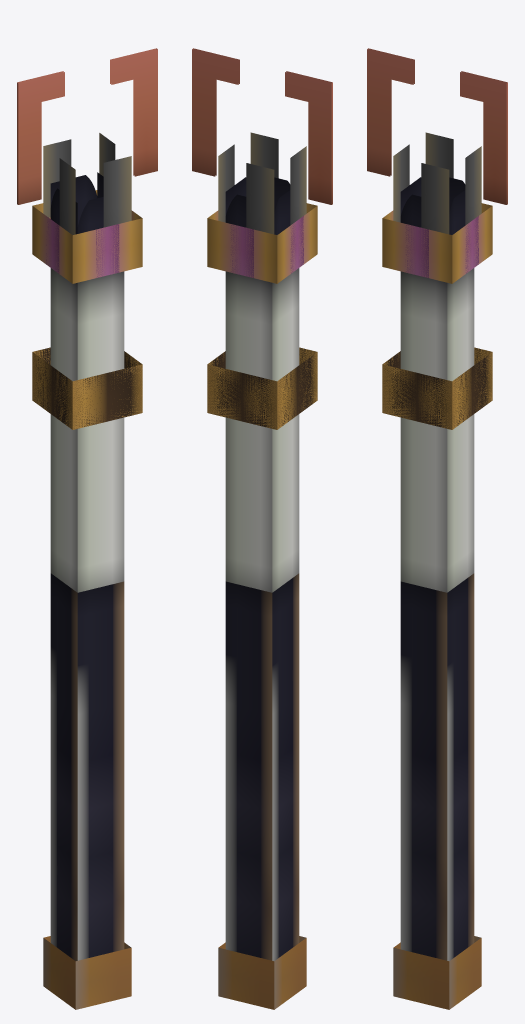
File: 物理手杖.obj
3 renders of one model, left to right at view 1: azimuth 30°, elevation 25°; view 2: azimuth 150°, elevation 25°; view 3: azimuth 330°, elevation 25°, orthographic.
Visible parts, largest first — view 1: cube.005, cube.012, cube.016; view 2: cube.005, cube.012, cube.016; view 3: cube.005, cube.012, cube.016.
Boxes of the visible parts, bbox=[...] form: cube.005: bbox=[32, 133, 142, 1009]; cube.012: bbox=[17, 71, 64, 204]; cube.016: bbox=[110, 48, 157, 176]; cube.005: bbox=[207, 132, 317, 1009]; cube.012: bbox=[285, 71, 332, 204]; cube.016: bbox=[192, 48, 239, 176]; cube.005: bbox=[382, 132, 492, 1009]; cube.012: bbox=[367, 48, 414, 176]; cube.016: bbox=[460, 71, 507, 204].
Size of the model in its own units: 0.3756 by 2.46 by 0.25.
1 material, 1 textured.
